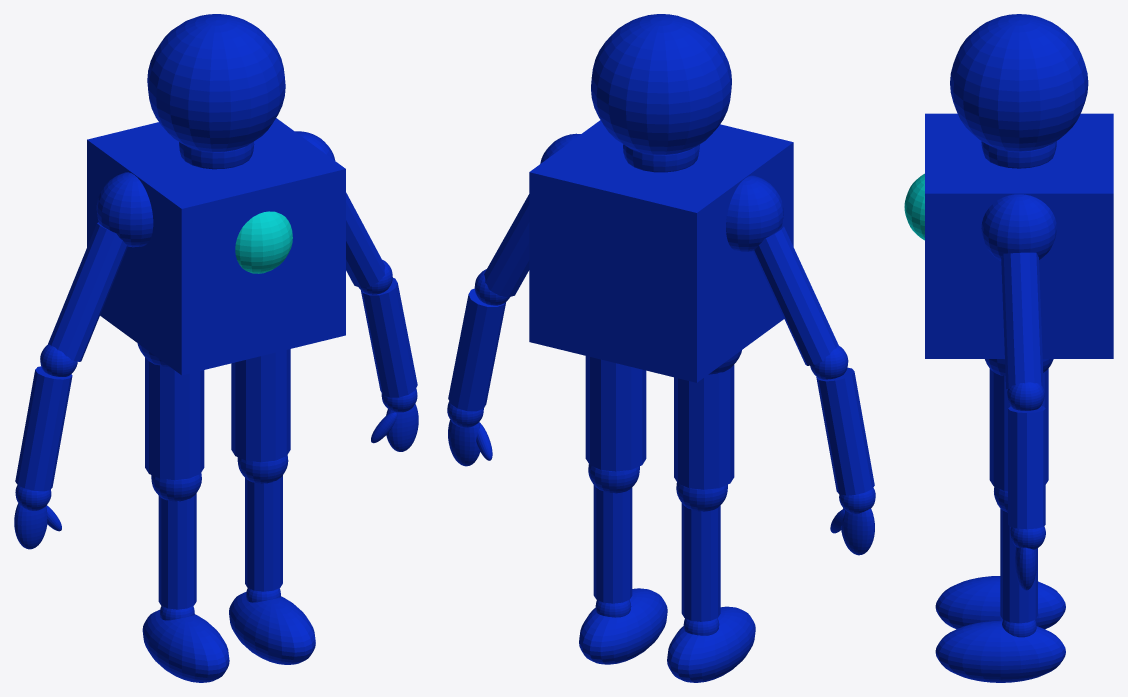
Rendered from player2.dae.
3 renders of one model, left to right at view 1: azimuth 30°, elevation 25°; view 2: azimuth 150°, elevation 25°; view 3: azimuth 270°, elevation 25°, orthographic. The views are drawn at different scales.
Parts seen in each view (by area): view 1: pCube1, pSphere11, pCylinder4, pCylinder4_ncl1_1, pCylinder3, pCylinder2, pSphere9, pSphere9_ncl1_1, pCylinder5, pCylinder5_ncl1_1, pCylinder2_ncl1_1, pSphere1 (+9 smaller); view 2: pCube1, pSphere11, pCylinder4, pCylinder4_ncl1_1, pCylinder3, pCylinder2, pCylinder5, pCylinder5_ncl1_1, pCylinder2_ncl1_1, pSphere9_ncl1_1, pSphere9, pSphere1 (+8 smaller); view 3: pCube1, pSphere11, pSphere9_ncl1_1, pCylinder3_ncl1_1, pCylinder2_ncl1_1, pSphere1_ncl1_1, pSphere9, pCylinder4_ncl1_1, pCylinder5_ncl1_1, pSphere10, pSphere12, pSphere2_ncl1_1 (+4 smaller).
Boxes of the visible parts, box(x1,y1,x2,y2) form: pCube1: box(87, 118, 345, 375); pSphere11: box(147, 14, 285, 152); pCylinder4: box(145, 357, 204, 480); pCylinder4_ncl1_1: box(231, 349, 290, 462); pCylinder3: box(48, 222, 127, 361); pCylinder2: box(15, 366, 72, 491); pSphere9: box(142, 609, 229, 682); pSphere9_ncl1_1: box(229, 592, 315, 664); pCylinder5: box(158, 493, 196, 609); pCylinder5_ncl1_1: box(245, 475, 282, 591); pCylinder2_ncl1_1: box(361, 278, 417, 397); pSphere1: box(96, 172, 153, 247); pCube1: box(529, 120, 793, 382); pSphere11: box(591, 14, 731, 154); pCylinder4: box(674, 364, 734, 489); pCylinder4_ncl1_1: box(585, 356, 646, 471); pCylinder3: box(753, 225, 838, 365); pCylinder2: box(816, 367, 874, 495); pCylinder5: box(681, 503, 720, 621); pCylinder5_ncl1_1: box(593, 485, 632, 603); pCylinder2_ncl1_1: box(448, 288, 505, 411); pSphere9_ncl1_1: box(579, 588, 667, 664); pSphere9: box(667, 606, 755, 682); pSphere1: box(726, 175, 783, 251); pCube1: box(925, 113, 1113, 358); pSphere11: box(950, 14, 1088, 151); pSphere9_ncl1_1: box(935, 621, 1065, 682); pCylinder3_ncl1_1: box(1001, 252, 1043, 389); pCylinder2_ncl1_1: box(1008, 406, 1045, 529); pSphere1_ncl1_1: box(981, 194, 1056, 261); pSphere9: box(935, 576, 1065, 629); pCylinder4_ncl1_1: box(989, 368, 1048, 491); pCylinder5_ncl1_1: box(1000, 508, 1037, 623); pSphere10: box(981, 141, 1056, 168); pSphere12: box(904, 173, 924, 240); pSphere2_ncl1_1: box(1007, 382, 1044, 410).
Size of the model in its own units: 12.47 by 18.61 by 5.54.
